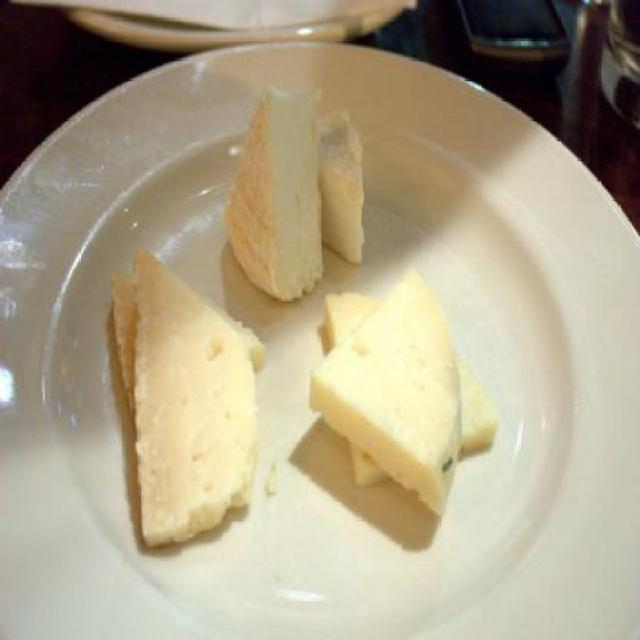Cheese: (304, 262, 464, 516), (136, 244, 258, 548), (323, 287, 502, 487), (218, 80, 320, 298), (112, 266, 266, 379), (314, 112, 366, 260)
